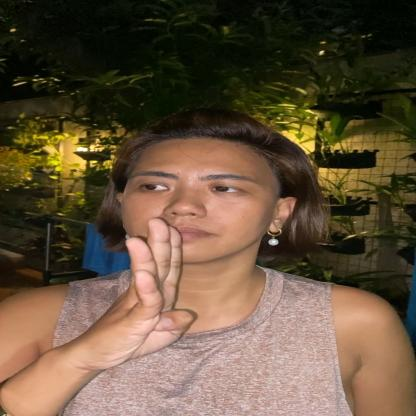Talk: (85, 102, 353, 368)
